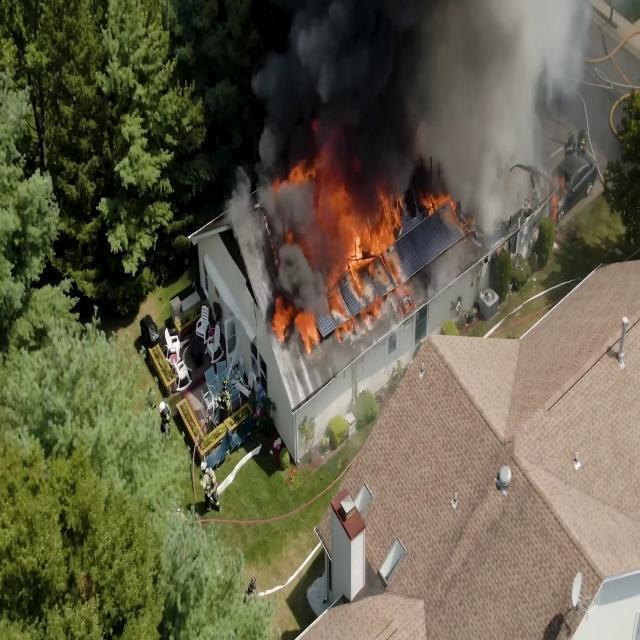Fire: (334, 203, 397, 260)
Smoke: (318, 0, 546, 110), (426, 0, 523, 194)
